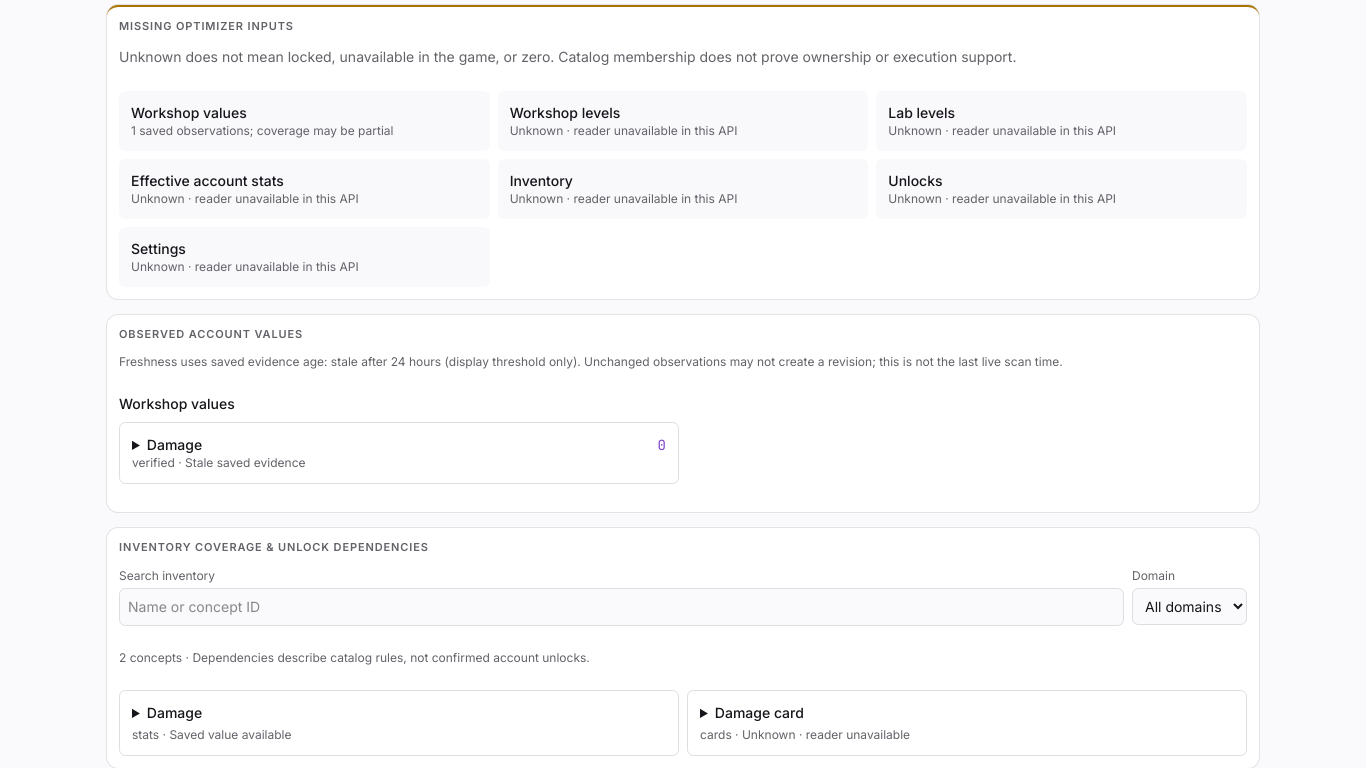
Test: Account inspector › traces zero values to stale evidence without inventing a source image
(page scrolled)
Check: the text "0" is shown, box x1=658 y1=435 x2=666 y2=455
Click the text "Damage" below "Observed account values". click: point(174, 445)
box: x1=147 y1=436 x2=202 y2=453
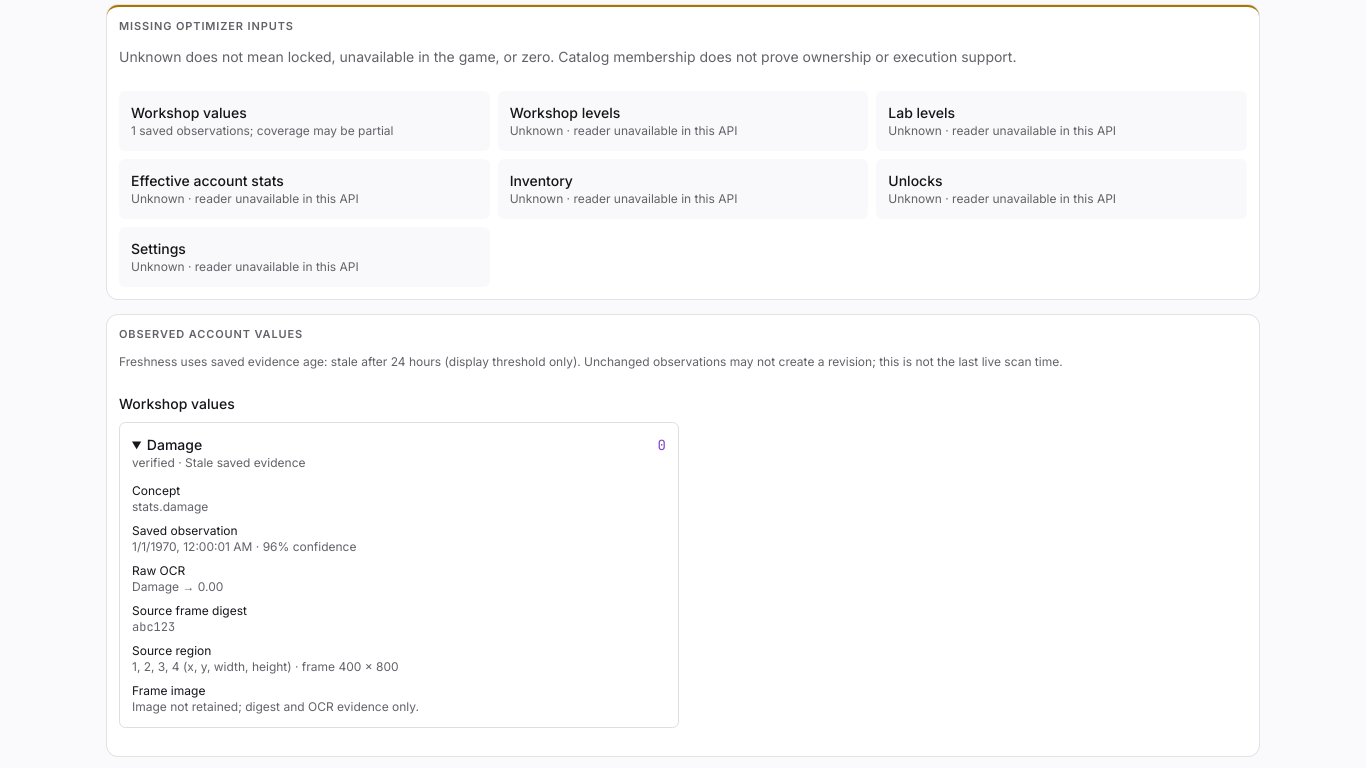
Check: the text "Damage → 0.00" is shown, box x1=132 y1=579 x2=223 y2=594
Check: the text "abc123" is shown, box x1=132 y1=619 x2=175 y2=635
Check: the text "Image not retained; digest and OCR evidence only." is shown, box x1=132 y1=699 x2=419 y2=714
